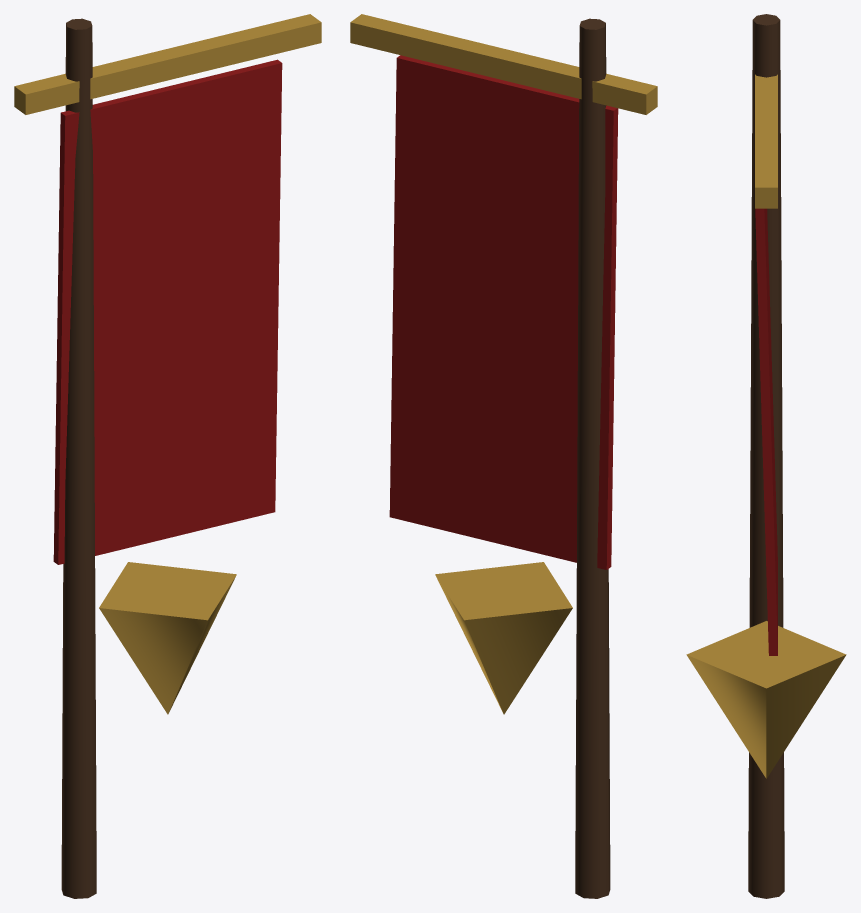
Rendered from estandarte.glb.
The picture shows the model from 3 angles, left to right: view 1: azimuth 30°, elevation 25°; view 2: azimuth 150°, elevation 25°; view 3: azimuth 270°, elevation 25°; orthographic projection.
Visible parts, largest first — view 1: Prop; view 2: Prop; view 3: Prop.
Boxes of the visible parts, bbox=[...] form: Prop: bbox=[14, 14, 321, 898]; Prop: bbox=[350, 14, 657, 898]; Prop: bbox=[686, 14, 846, 898].
Bounding box in the file's own units: 1.5 × 4.2 × 0.7.
